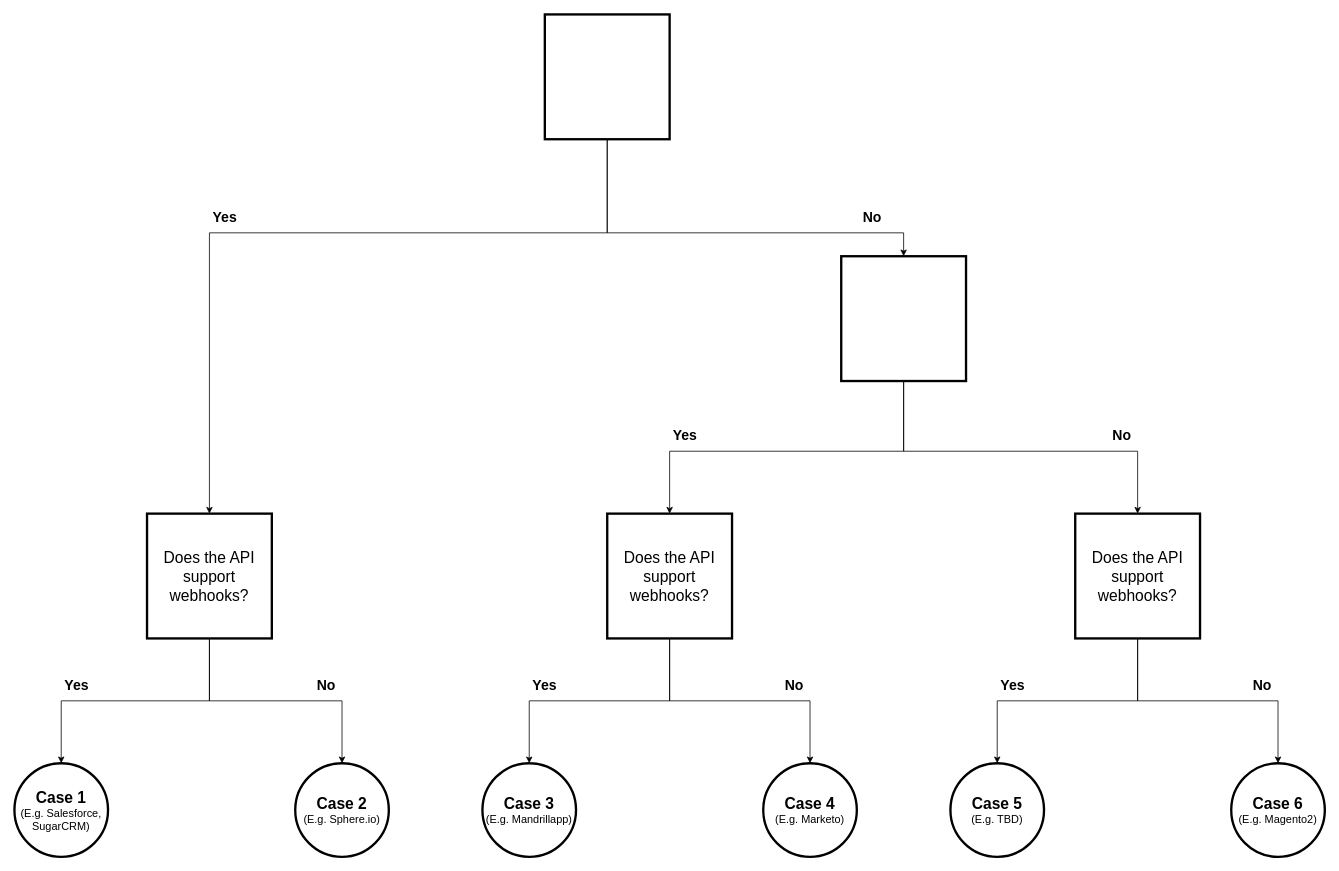
Image size: 1339x871. Some labels were removed from this diagram. Each missing label, with the centre of its shape:
Is the list of business objects dynamic?: the point at 606,76
Is the structure of objects dynamic?: the point at 903,318
